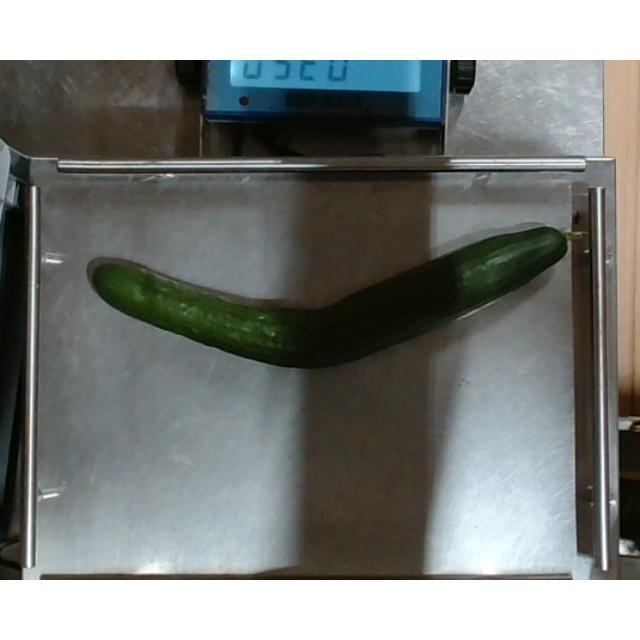cucumber: (90, 222, 594, 374)
